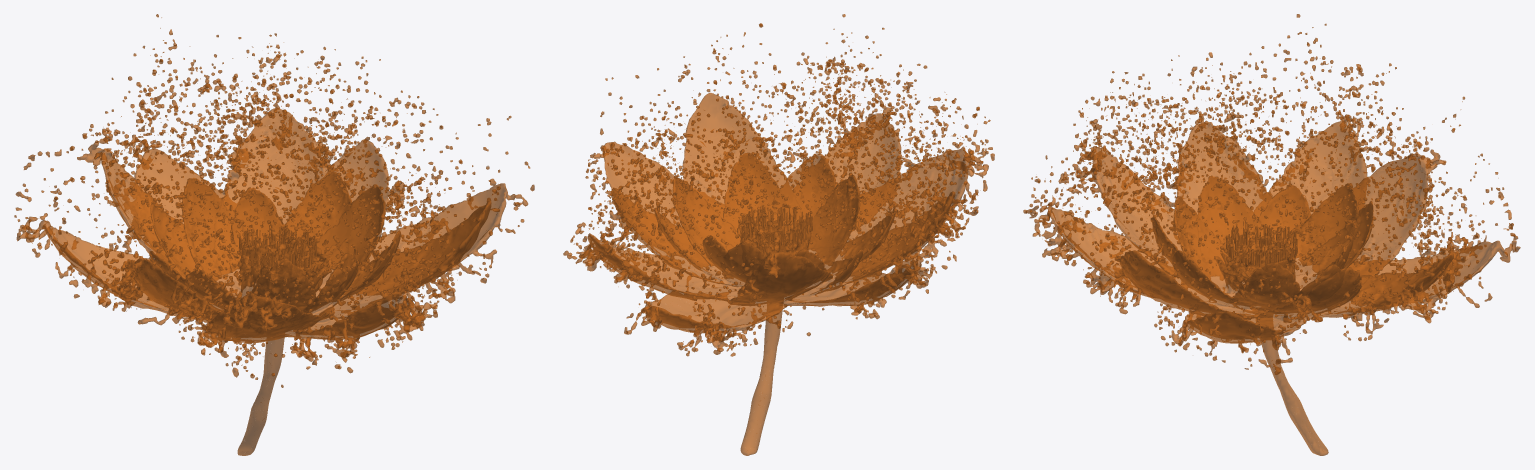
3 views of the same model, side by side, from view 1: azimuth 30°, elevation 25°; view 2: azimuth 150°, elevation 25°; view 3: azimuth 270°, elevation 25° (orthographic). The views are drawn at different scales.
Parts seen in each view (by area): view 1: Object_2; view 2: Object_2; view 3: Object_2.
Part boxes in pixels (bbox=[...]): Object_2: bbox=[14, 14, 534, 455]; Object_2: bbox=[563, 14, 994, 455]; Object_2: bbox=[1023, 14, 1520, 455].
Bounding box in the file's own units: 53.62 × 48.61 × 56.59.
